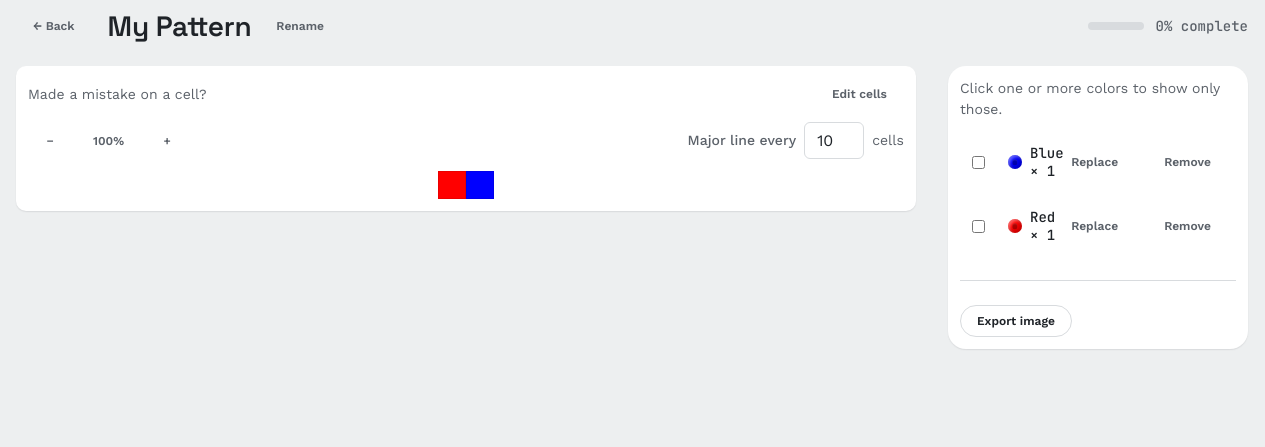
Test: WorkingView › shows similar palette colors to replace with when Replace is clicked
Expected: the button "Red × 1" is shown, [1000,204,1042,248]
Click the button with aria-label "replace red": (1095, 226) [1054,210,1135,242]
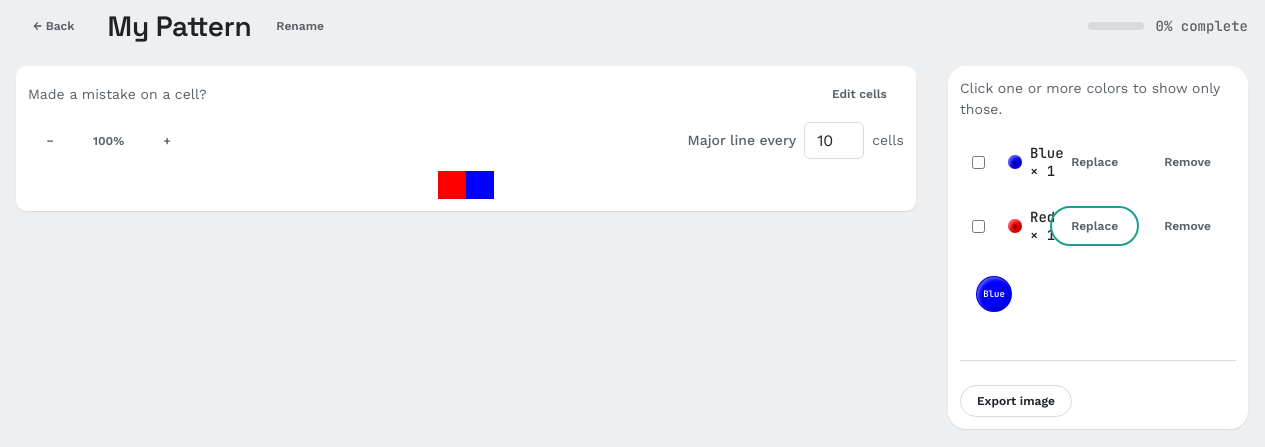
Expected: the button with aria-label "replace with blue" is shown, [976,276,1012,312]
